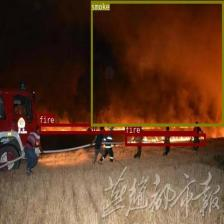fire: (39, 123, 197, 133), (125, 134, 206, 146)
smoke: (91, 0, 223, 126)
